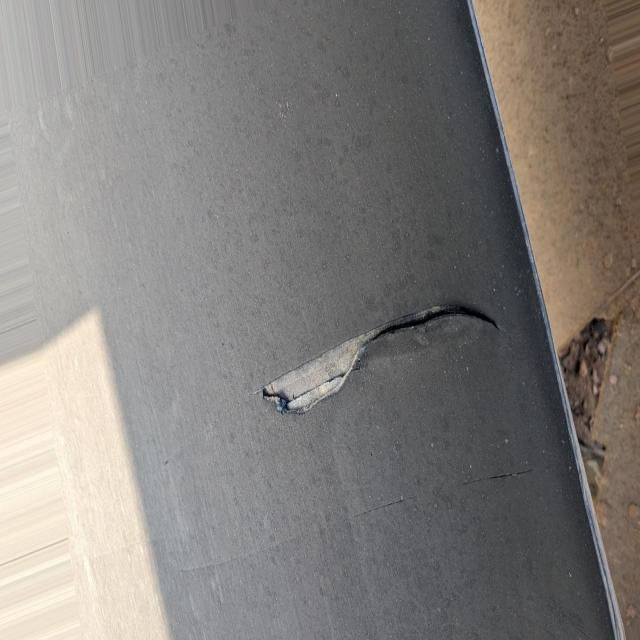Tear: (263, 304, 497, 414)
